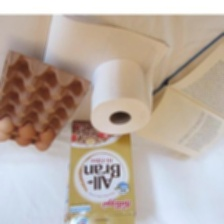book: (128, 29, 224, 161), (60, 115, 141, 224)
tissue: (35, 15, 175, 140)
